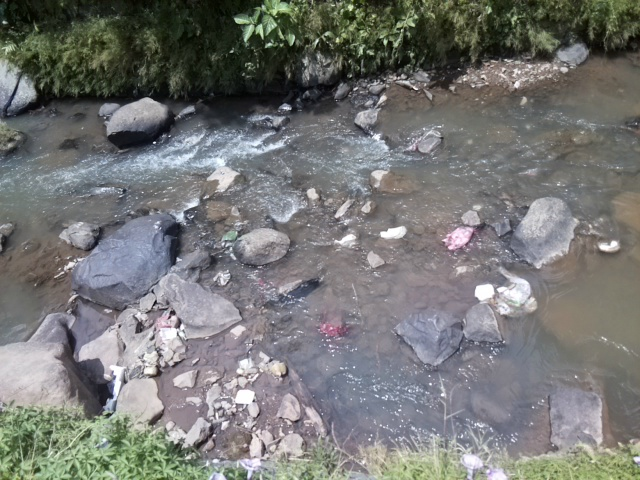Sampah_Plastik: (501, 275, 536, 316), (440, 224, 480, 251), (317, 320, 347, 338), (154, 315, 171, 329)
Sampah_Styrofoam: (474, 283, 497, 301), (381, 226, 407, 241), (234, 388, 256, 405)
